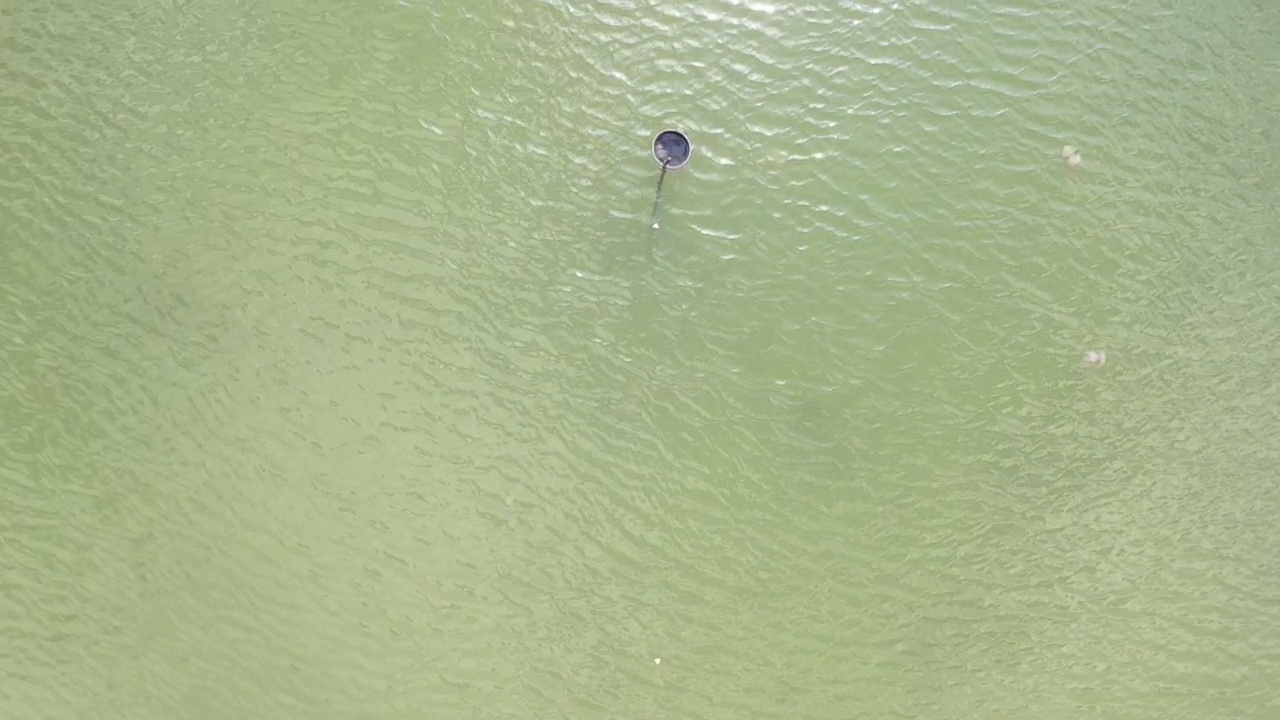meduse: (1061, 144, 1081, 168), (1086, 349, 1107, 365)
